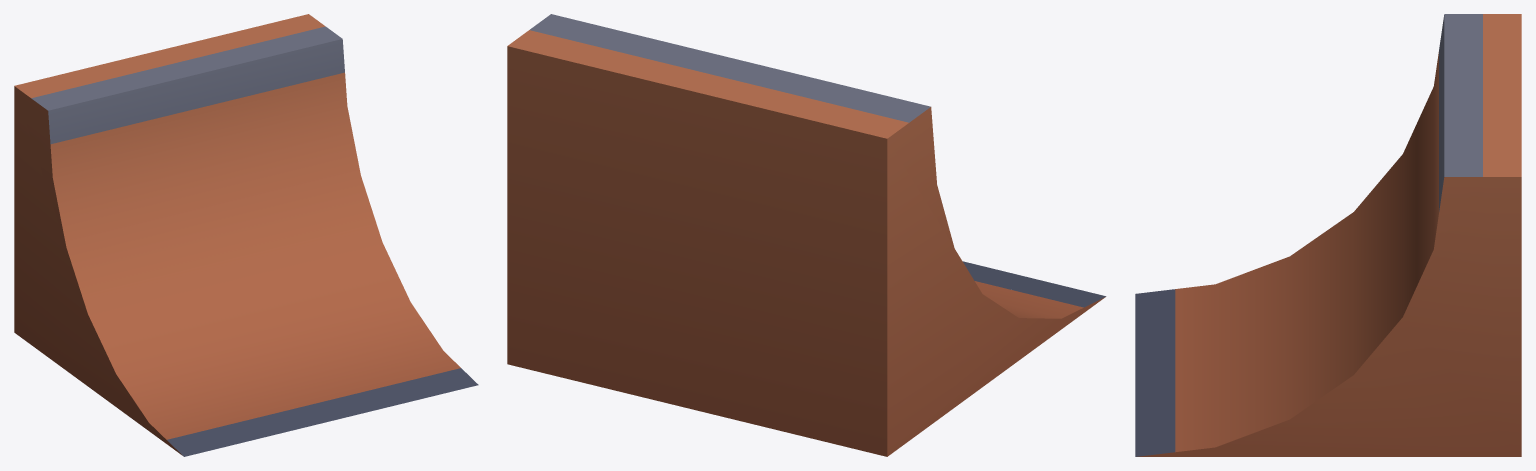
The model's file is slide-chute.glb.
The picture shows the model from 3 angles, left to right: view 1: azimuth 30°, elevation 25°; view 2: azimuth 150°, elevation 25°; view 3: azimuth 270°, elevation 25°; orthographic projection. The views are drawn at different scales.
Parts seen in each view (by area): view 1: half-pipe; view 2: half-pipe; view 3: half-pipe.
Boxes of the visible parts, x1,y1,x2,y2 form: half-pipe: (14, 14, 478, 456); half-pipe: (507, 14, 1106, 456); half-pipe: (1135, 14, 1521, 456).
Size of the model in its own units: 1 by 0.8 by 1.
